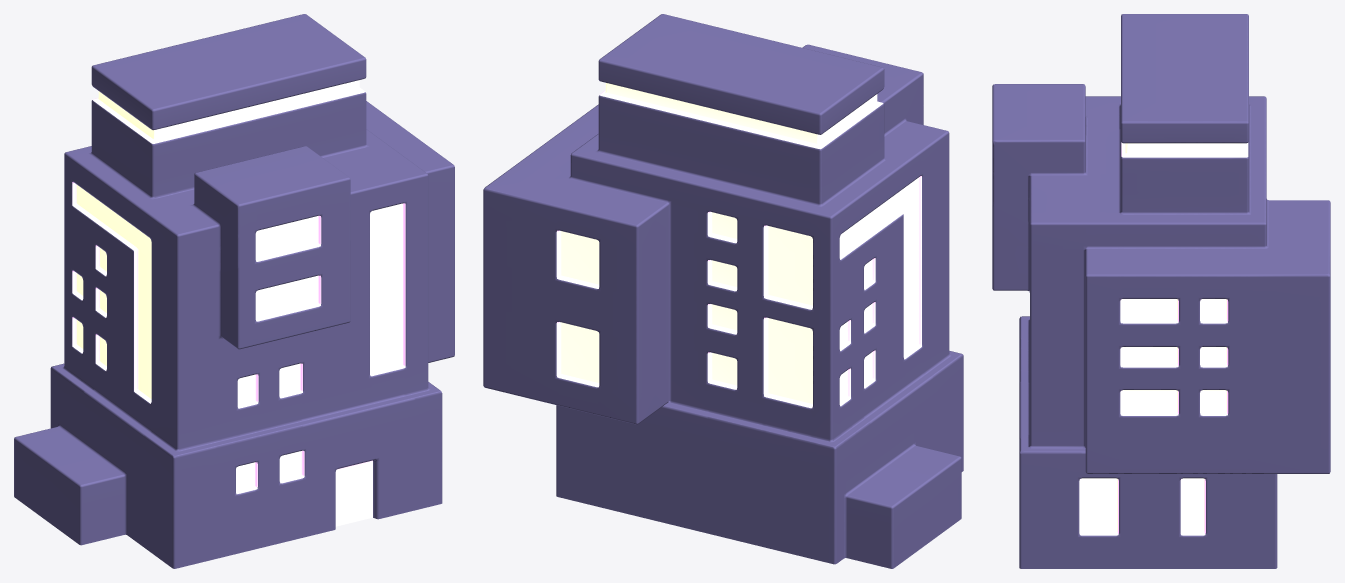
File: edificioNOSUELO_01.glb
3 renders of one model, left to right at view 1: azimuth 30°, elevation 25°; view 2: azimuth 150°, elevation 25°; view 3: azimuth 270°, elevation 25°, orthographic. The views are drawn at different scales.
Parts seen in each view (by area): view 1: Edificio; view 2: Edificio; view 3: Edificio.
Part boxes in pixels (x1=…): Edificio: x1=14, y1=14, x2=454, y2=568; Edificio: x1=483, y1=14, x2=963, y2=568; Edificio: x1=992, y1=14, x2=1330, y2=568.
Size of the model in its own units: 18.62 by 20.62 by 14.6.
